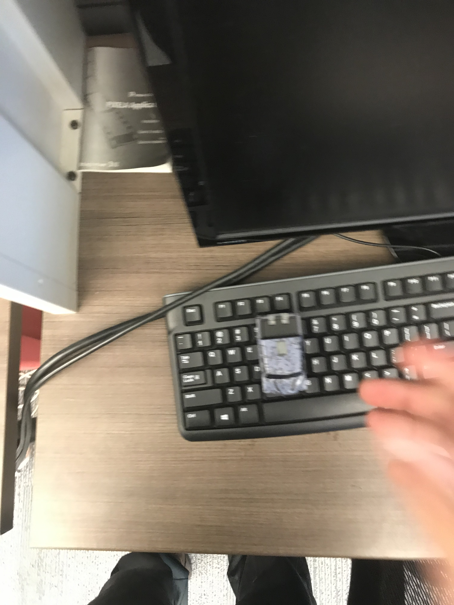MXT: (255, 311, 309, 398)
